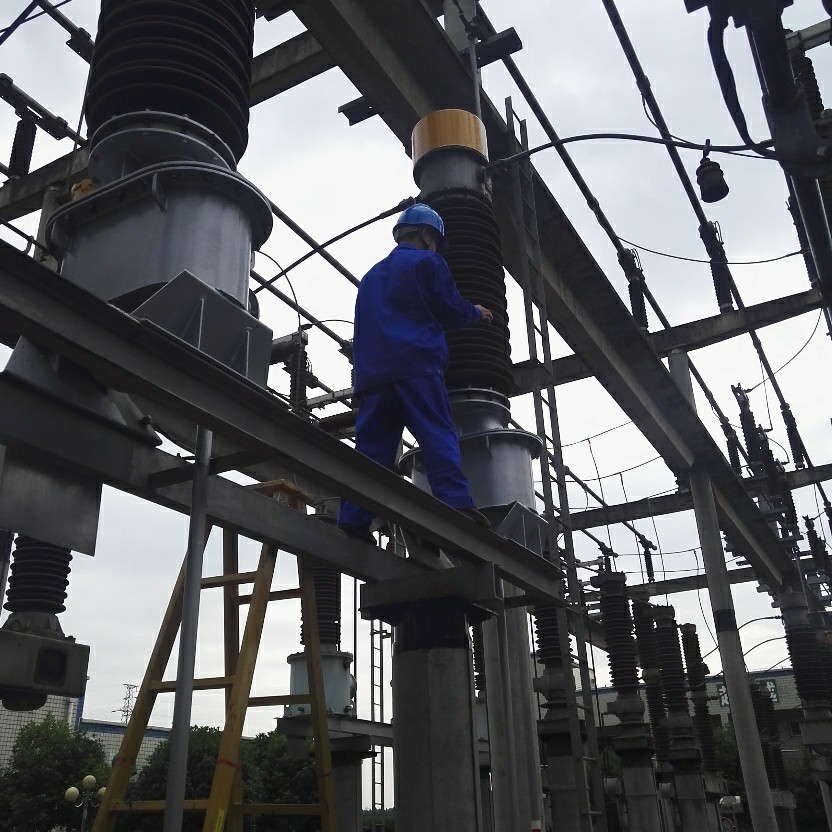hat: (389, 200, 449, 257)
